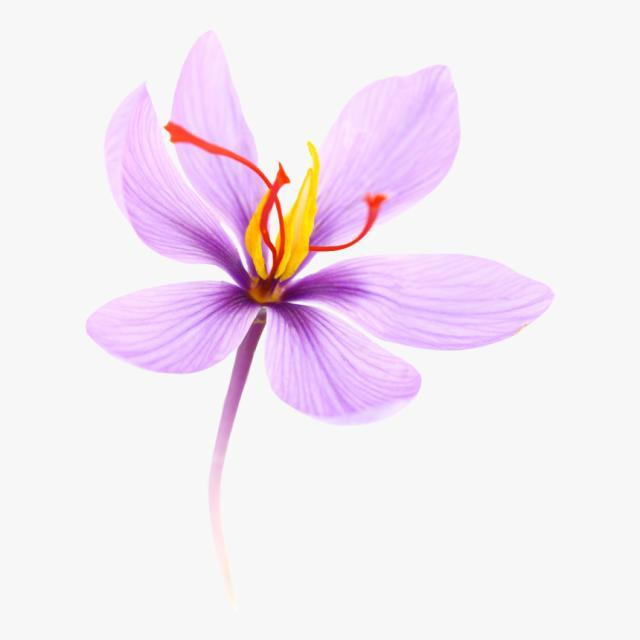Flower: (90, 32, 553, 414)
stigma: (162, 115, 291, 245), (305, 188, 389, 255), (258, 162, 294, 282)
